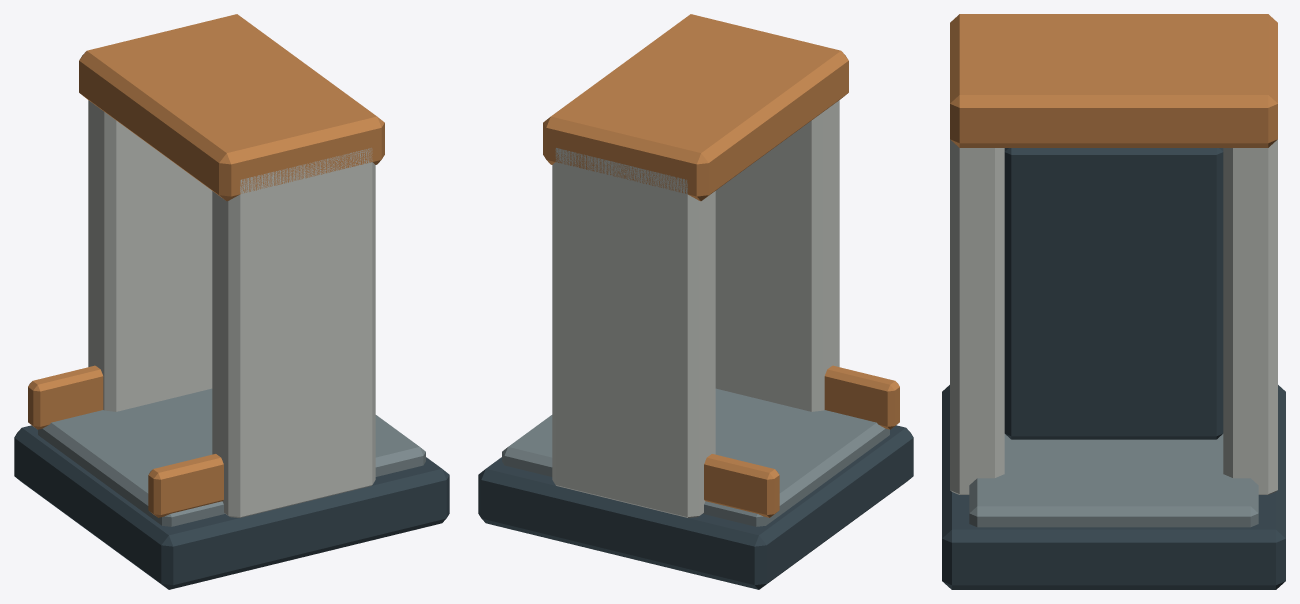
File: phw_dock_out.glb
3 renders of one model, left to right at view 1: azimuth 30°, elevation 25°; view 2: azimuth 150°, elevation 25°; view 3: azimuth 270°, elevation 25°, orthographic. The views are drawn at different scales.
Visible parts, largest first — view 1: body; view 2: body; view 3: body, door.
Part boxes in pixels (x1,y1,x2,y2): body: (14,14,449,589); body: (478,14,913,589); body: (942,14,1285,589); door: (1004,148,1223,439).
Size of the model in its own units: 0.94 by 1.31 by 0.88.
